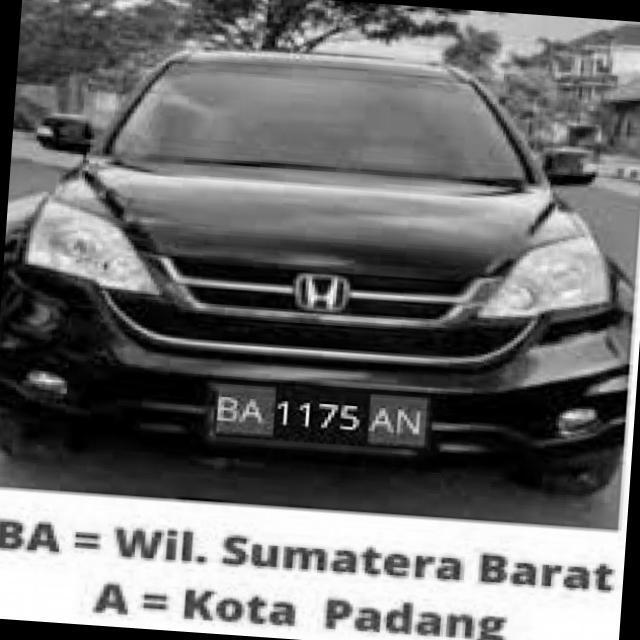1: (290, 398, 316, 436), (273, 394, 295, 434)
5: (336, 400, 362, 434)
7: (313, 398, 339, 433)
A: (368, 402, 397, 446), (240, 396, 264, 424)
B: (218, 396, 240, 424)
N: (398, 406, 422, 439)
